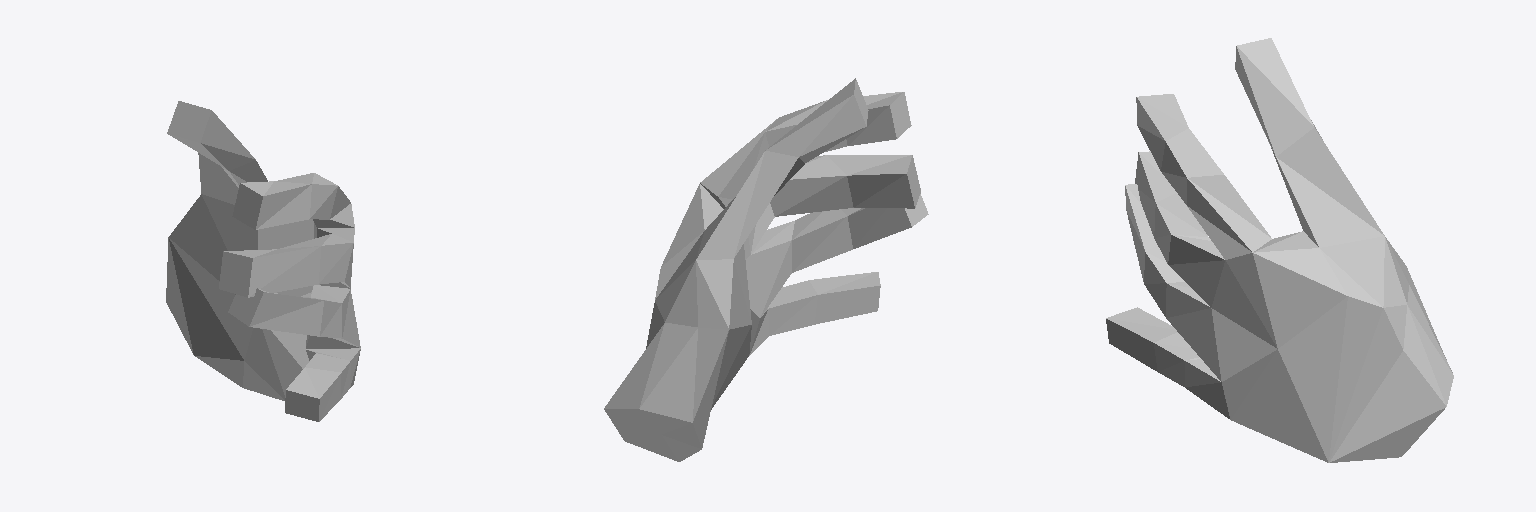
File: ClarinetLeftHand16.obj
The picture shows the model from 3 angles: view 1: azimuth 30°, elevation 25°; view 2: azimuth 150°, elevation 25°; view 3: azimuth 270°, elevation 25°; orthographic projection.
Visible parts, largest first — view 1: ClarinetLeftHand17_RecorderHandLeft0.021; view 2: ClarinetLeftHand17_RecorderHandLeft0.021; view 3: ClarinetLeftHand17_RecorderHandLeft0.021.
Boxes of the visible parts, <box> form: ClarinetLeftHand17_RecorderHandLeft0.021: <box>166,101,360,421</box>; ClarinetLeftHand17_RecorderHandLeft0.021: <box>604,78,928,461</box>; ClarinetLeftHand17_RecorderHandLeft0.021: <box>1106,38,1453,462</box>.
Size of the model in its own units: 3.02 by 5.49 by 4.86.